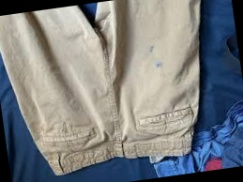ink: (148, 43, 156, 54), (155, 62, 164, 69)
